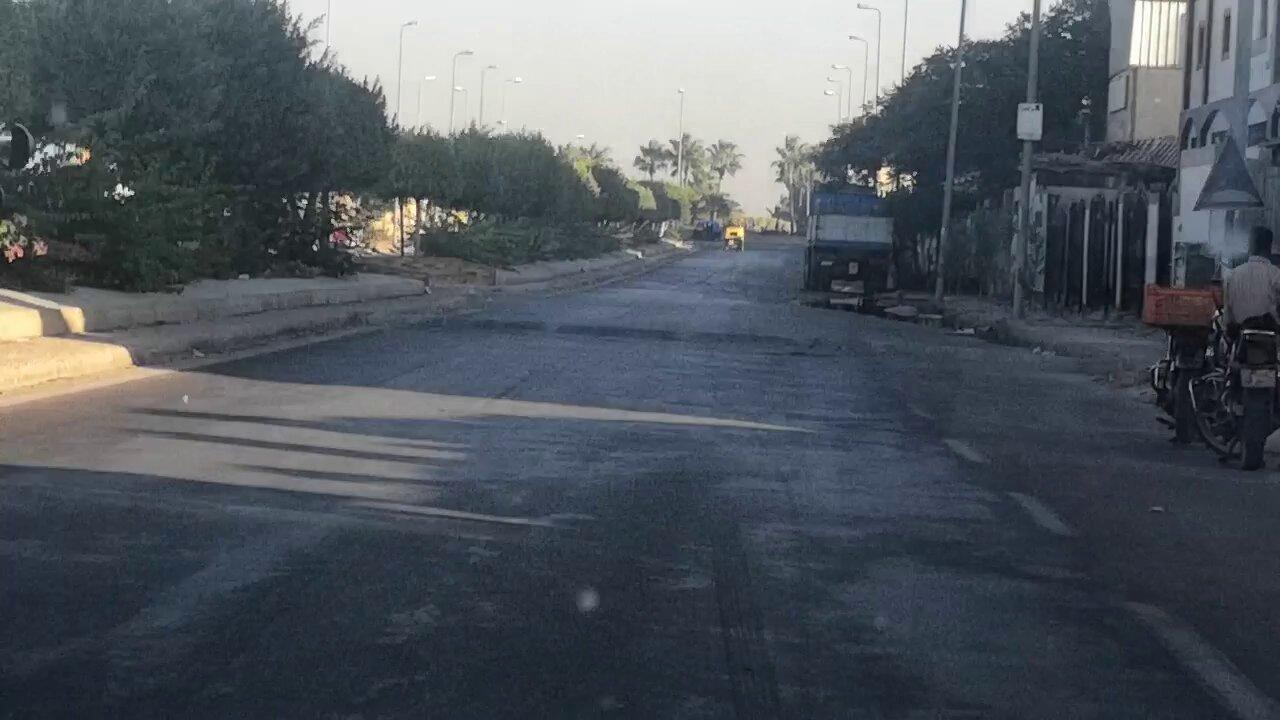Bump: (393, 312, 1055, 382)
